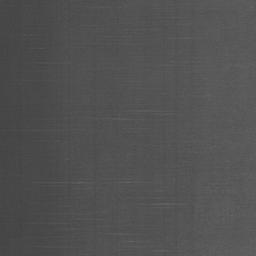Waist folding: (32, 177, 185, 253), (93, 108, 152, 122), (95, 2, 127, 10), (0, 129, 40, 133), (38, 61, 70, 65), (233, 63, 256, 68), (241, 172, 256, 176), (208, 9, 234, 11)
